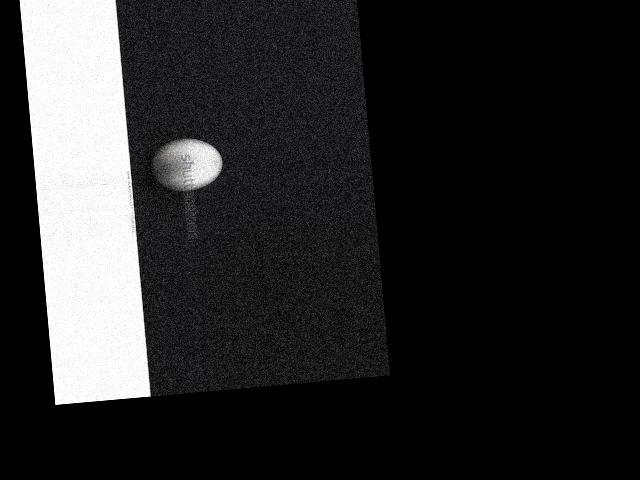egg: (149, 135, 225, 192)
